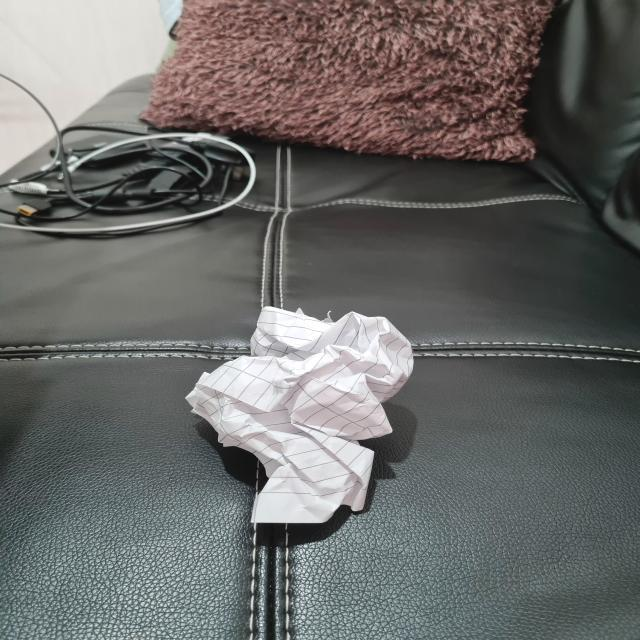Paper: (181, 305, 418, 528)
